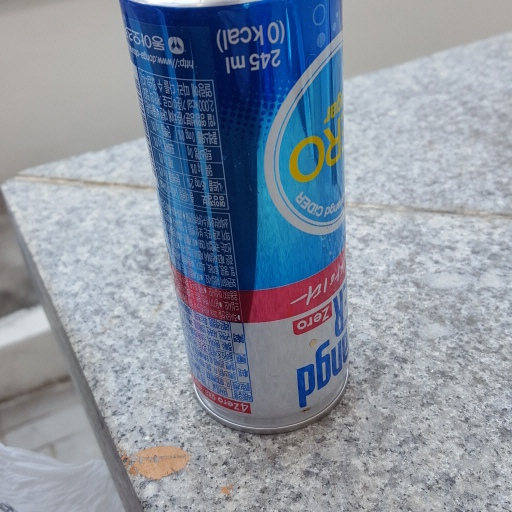Metal_0: (116, 1, 350, 432)
